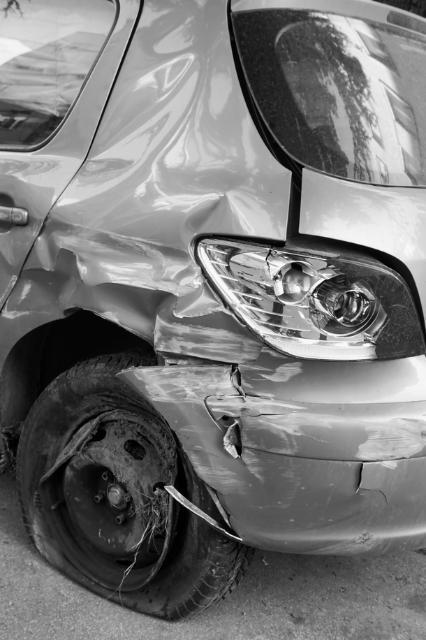Bumper: (146, 346, 426, 546)
Light: (184, 230, 426, 368)
